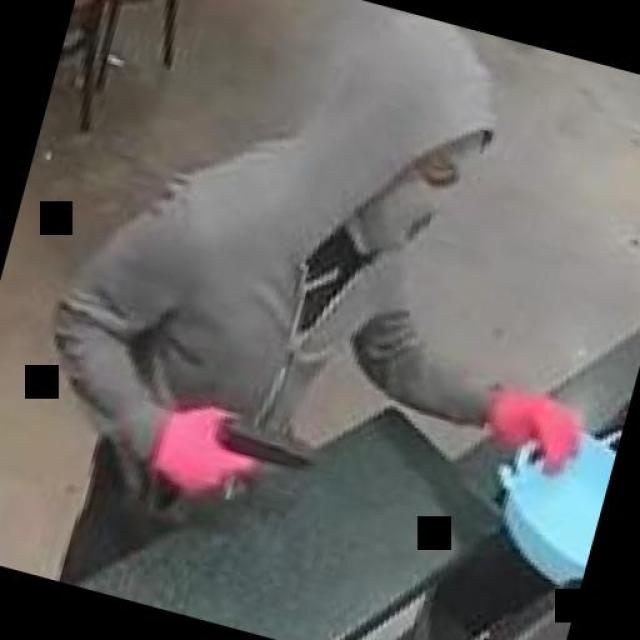gun: (175, 400, 329, 520)
